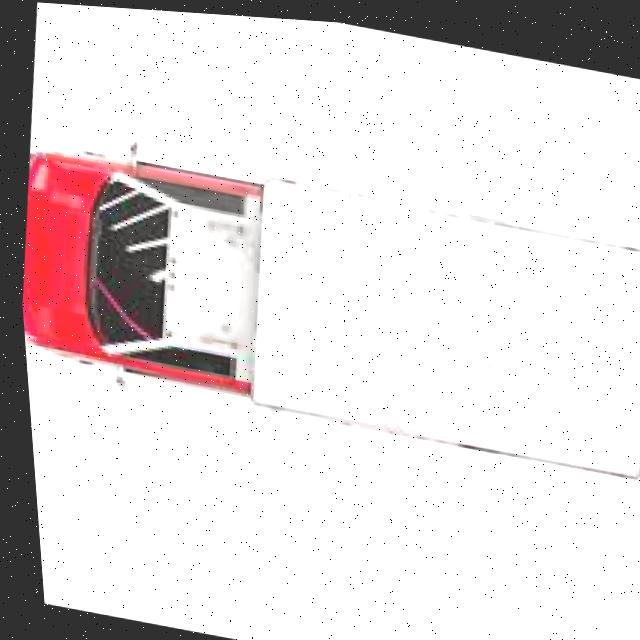truck: (8, 130, 640, 476)
